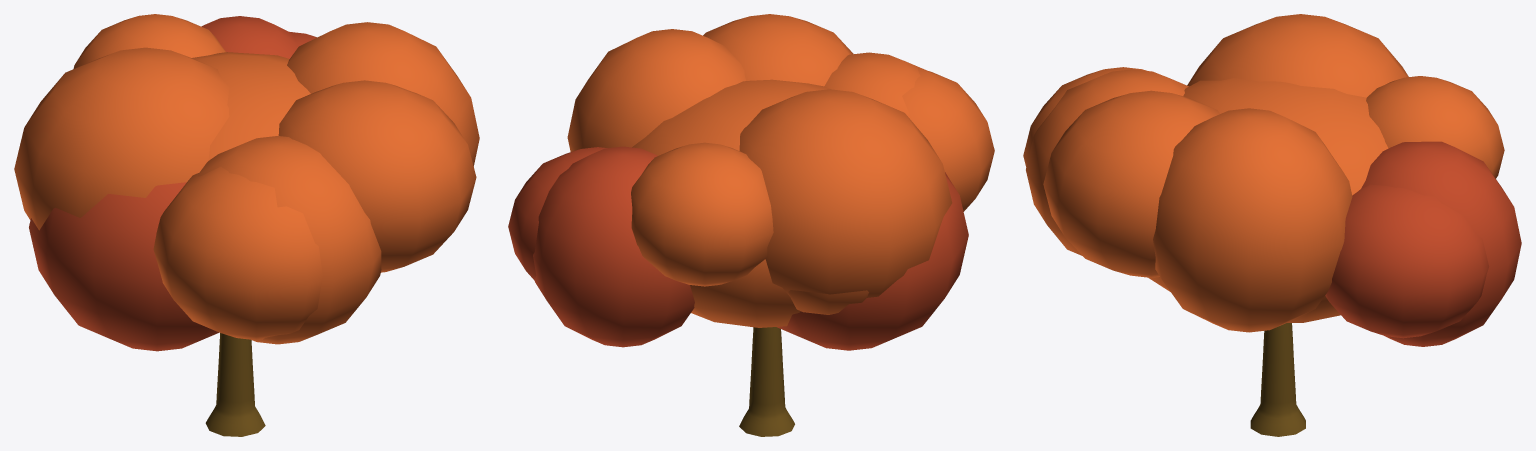
Rendered from maple_1.glb.
3 renders of one model, left to right at view 1: azimuth 30°, elevation 25°; view 2: azimuth 150°, elevation 25°; view 3: azimuth 270°, elevation 25°, orthographic. The views are drawn at different scales.
Visible parts, largest first — view 1: crown, trunk; view 2: crown, trunk; view 3: crown, trunk.
Boxes of the visible parts, left/top/right/bottom form: crown: left=14, top=14, right=479, bottom=351; trunk: left=205, top=333, right=265, bottom=436; crown: left=508, top=14, right=994, bottom=350; trunk: left=739, top=327, right=794, bottom=436; crown: left=1023, top=14, right=1521, bottom=346; trunk: left=1250, top=323, right=1305, bottom=436.
Size of the model in its own units: 2.37 by 2.08 by 2.59.
